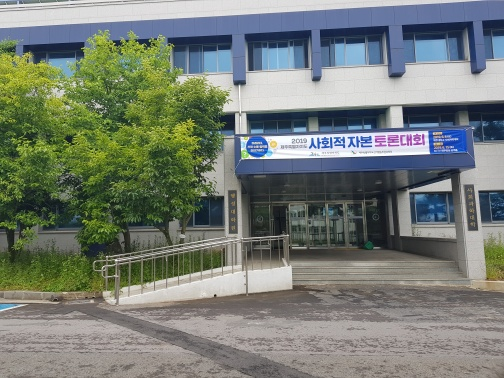College of Social Sciences: (16, 8, 504, 292), (212, 112, 493, 295), (226, 8, 489, 87)
